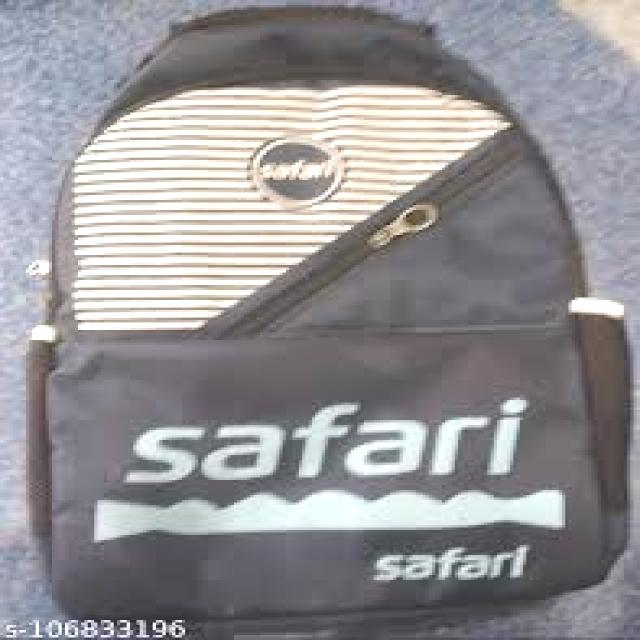backpack: (20, 1, 638, 639)
